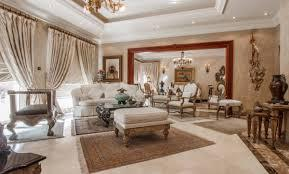chair: (169, 83, 200, 119), (216, 81, 242, 120), (244, 108, 268, 143), (147, 93, 181, 108), (207, 82, 221, 109), (144, 82, 156, 96)
light: (70, 0, 124, 13), (170, 49, 195, 72), (261, 8, 271, 20), (230, 13, 243, 22), (186, 18, 198, 27), (117, 7, 128, 16), (151, 25, 165, 32), (204, 61, 211, 75)
sofa: (69, 82, 148, 117)
table: (114, 108, 173, 142), (0, 142, 46, 174), (258, 99, 289, 145), (95, 100, 144, 126)
